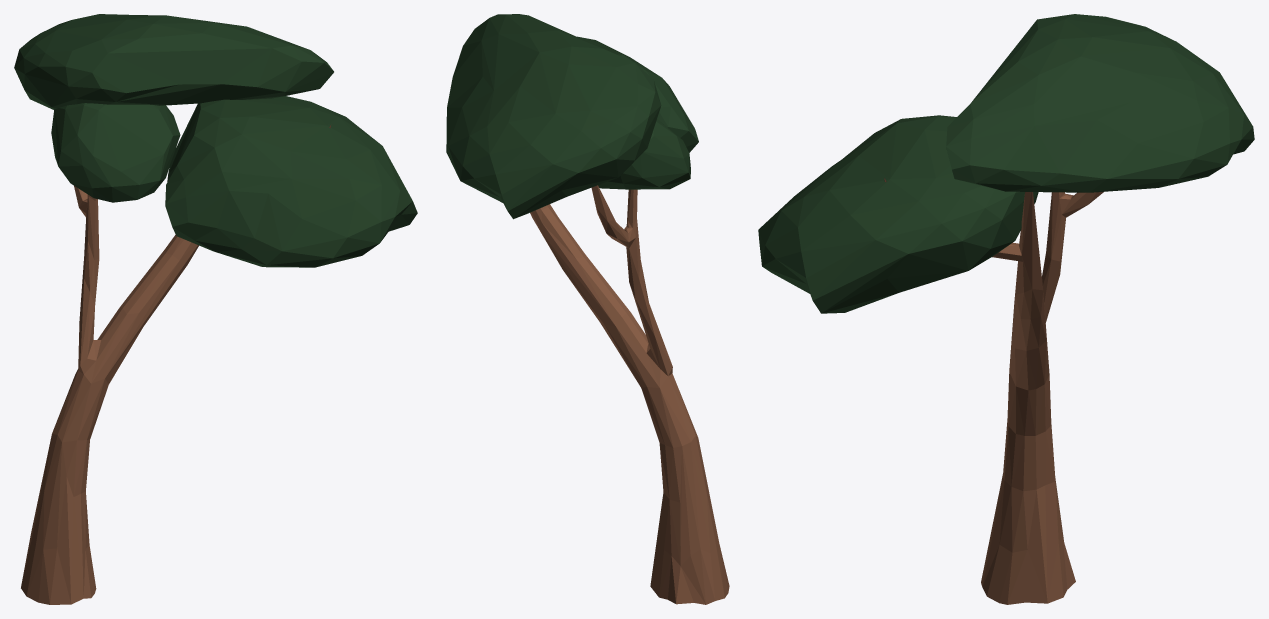
File: SM_tree_fantasy_03.fbx
3 views of the same model, side by side, from view 1: azimuth 30°, elevation 25°; view 2: azimuth 150°, elevation 25°; view 3: azimuth 270°, elevation 25° (orthographic). The views are drawn at different scales.
Parts seen in each view (by area): view 1: Object229; view 2: Object229; view 3: Object229.
Part boxes in pixels (bbox=[...]): Object229: bbox=[14, 14, 417, 604]; Object229: bbox=[446, 14, 729, 604]; Object229: bbox=[758, 14, 1254, 604].
Size of the model in its own units: 176 by 220 by 298.
